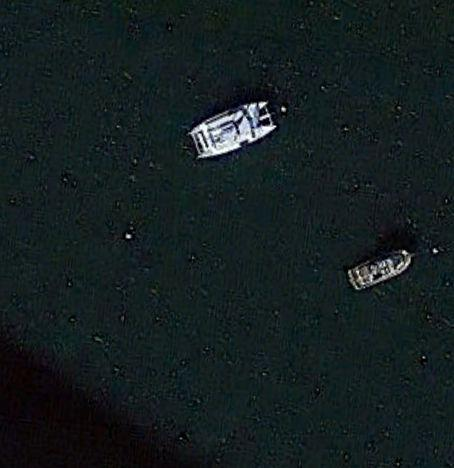Ships: (166, 97, 297, 159), (335, 248, 435, 309)
